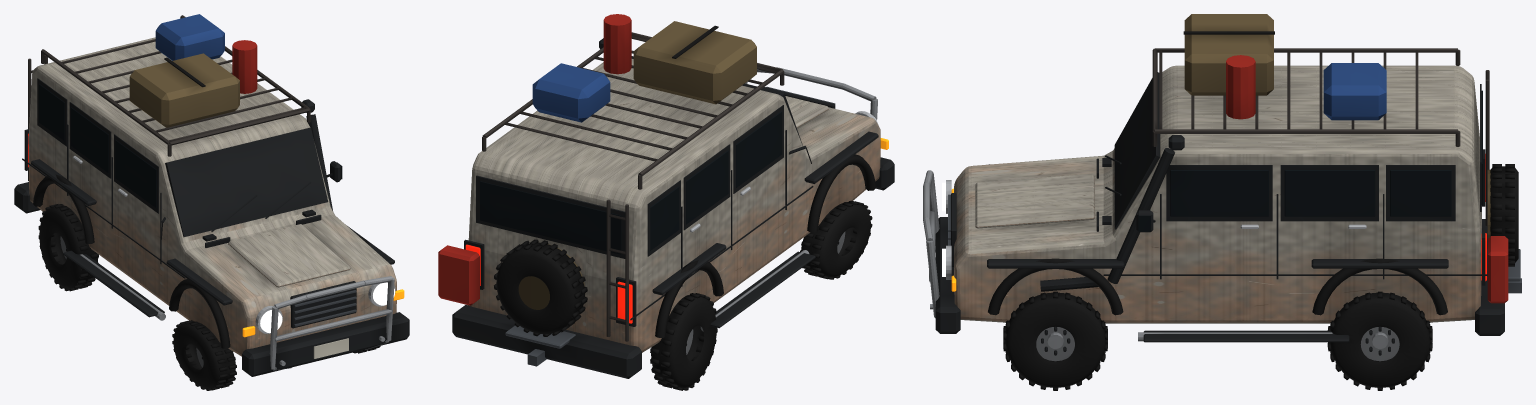
3 renders of one model, left to right at view 1: azimuth 30°, elevation 25°; view 2: azimuth 150°, elevation 25°; view 3: azimuth 270°, elevation 25°, orthographic. The views are drawn at different scales.
Parts seen in each view (by area): view 1: az-4x4_az_paint, az-4x4_az_trim, az-4x4_az_rubber, az-4x4_az_canvas, az-4x4_az_glass, az-4x4_az_iron, az-4x4_az_rim, az-4x4_az_bluetank, az-4x4_az_enamel_red, az-4x4_az_steel, az-4x4_az_lamp, az-4x4_az_plate (+1 smaller); view 2: az-4x4_az_paint, az-4x4_az_rubber, az-4x4_az_trim, az-4x4_az_glass, az-4x4_az_canvas, az-4x4_az_iron, az-4x4_az_enamel_red, az-4x4_az_bluetank, az-4x4_az_rim, az-4x4_az_steel, az-4x4_az_tail; view 3: az-4x4_az_paint, az-4x4_az_trim, az-4x4_az_rubber, az-4x4_az_glass, az-4x4_az_canvas, az-4x4_az_iron, az-4x4_az_rim, az-4x4_az_bluetank, az-4x4_az_enamel_red, az-4x4_az_steel, az-4x4_az_chrome.
Part boxes in pixels (x1=…): az-4x4_az_paint: x1=28, y1=37, x2=396, y2=356; az-4x4_az_trim: x1=14, y1=78, x2=409, y2=376; az-4x4_az_rubber: x1=33, y1=57, x2=380, y2=390; az-4x4_az_canvas: x1=129, y1=53, x2=239, y2=127; az-4x4_az_glass: x1=39, y1=84, x2=342, y2=208; az-4x4_az_iron: x1=28, y1=15, x2=310, y2=181; az-4x4_az_rim: x1=60, y1=236, x2=394, y2=370; az-4x4_az_bluetank: x1=155, y1=14, x2=224, y2=60; az-4x4_az_enamel_red: x1=232, y1=40, x2=257, y2=93; az-4x4_az_steel: x1=294, y1=290, x2=356, y2=326; az-4x4_az_lamp: x1=260, y1=282, x2=394, y2=333; az-4x4_az_plate: x1=313, y1=338, x2=348, y2=358; az-4x4_az_paint: x1=468, y1=59, x2=880, y2=352; az-4x4_az_rubber: x1=494, y1=25, x2=875, y2=390; az-4x4_az_trim: x1=452, y1=38, x2=894, y2=378; az-4x4_az_glass: x1=480, y1=111, x2=782, y2=254; az-4x4_az_canvas: x1=518, y1=21, x2=756, y2=309; az-4x4_az_iron: x1=482, y1=32, x2=784, y2=341; az-4x4_az_enamel_red: x1=438, y1=14, x2=631, y2=305; az-4x4_az_bluetank: x1=532, y1=63, x2=610, y2=122; az-4x4_az_rim: x1=686, y1=67, x2=877, y2=354; az-4x4_az_steel: x1=505, y1=86, x2=835, y2=366; az-4x4_az_tail: x1=465, y1=244, x2=632, y2=323; az-4x4_az_paint: x1=954, y1=65, x2=1481, y2=323; az-4x4_az_trim: x1=935, y1=72, x2=1504, y2=355; az-4x4_az_rubber: x1=988, y1=31, x2=1518, y2=390; az-4x4_az_glass: x1=1138, y1=90, x2=1482, y2=231; az-4x4_az_canvas: x1=1184, y1=14, x2=1490, y2=238; az-4x4_az_iron: x1=1152, y1=48, x2=1489, y2=226; az-4x4_az_rim: x1=923, y1=170, x2=1399, y2=361; az-4x4_az_bluetank: x1=1323, y1=63, x2=1386, y2=120; az-4x4_az_enamel_red: x1=1226, y1=55, x2=1508, y2=303; az-4x4_az_steel: x1=948, y1=194, x2=1521, y2=293; az-4x4_az_chrome: x1=946, y1=180, x2=1366, y2=279.
Bounding box in the file's own units: 2.31 × 2.94 × 5.24.
Materials: 15 (1 with a texture image).
